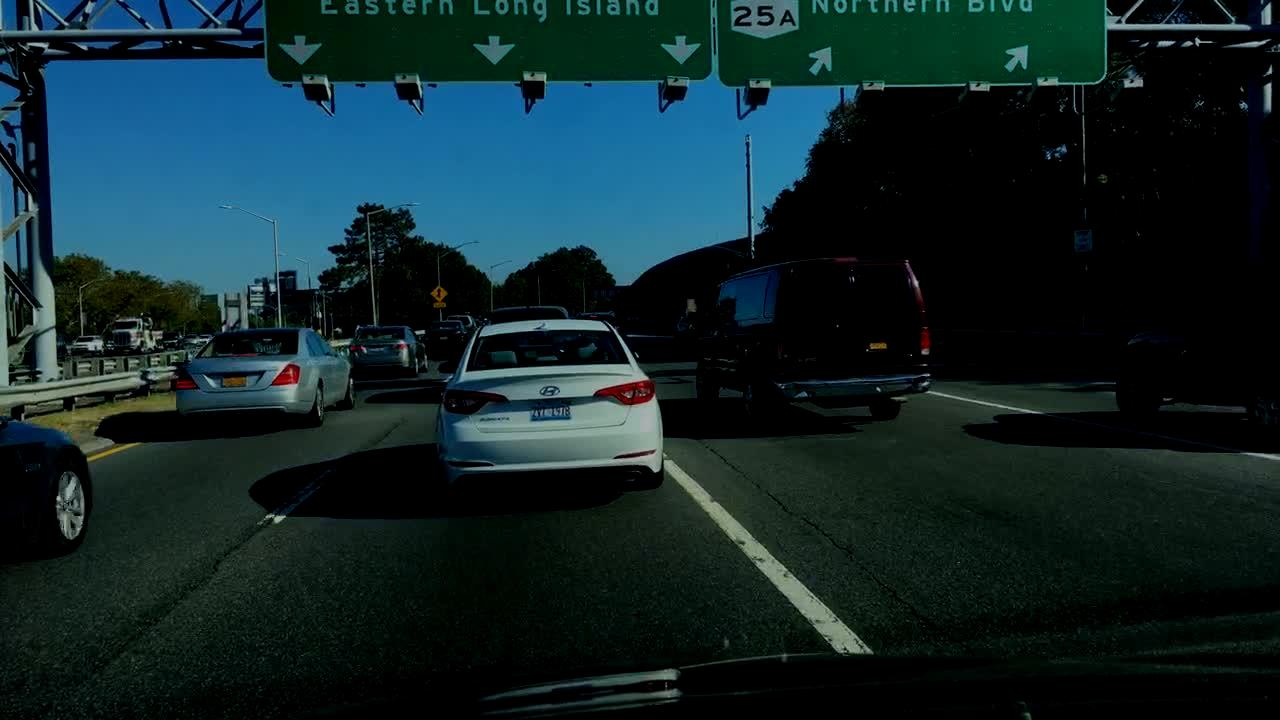Hyundai: (533, 383, 573, 407)
